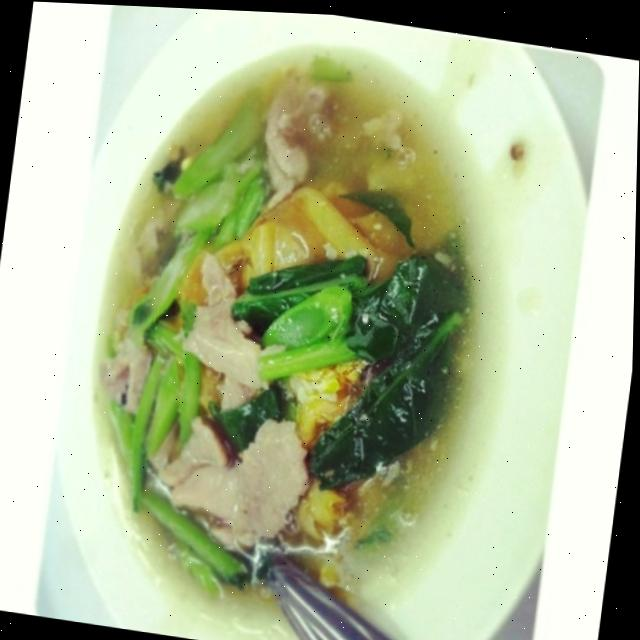面条主食: (43, 14, 567, 640)
